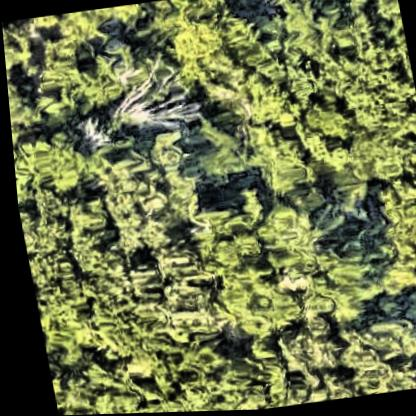tree-top: (191, 187, 341, 344), (92, 126, 206, 255), (15, 212, 97, 359), (28, 29, 127, 116), (150, 0, 251, 83), (9, 120, 98, 200), (327, 319, 416, 399), (368, 170, 416, 287), (245, 123, 315, 200), (43, 368, 135, 416), (5, 75, 43, 140), (78, 1, 158, 31), (1, 17, 36, 77), (259, 0, 328, 9)
